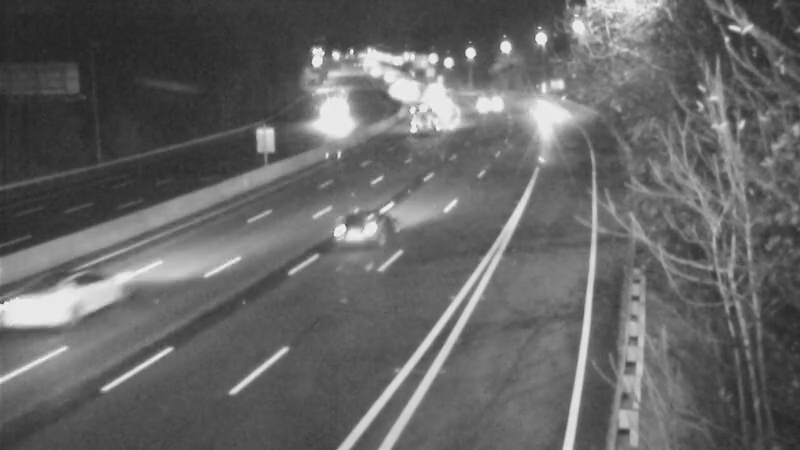vehicle: (1, 248, 111, 358), (312, 189, 392, 269), (385, 71, 435, 121), (403, 70, 453, 120), (463, 75, 513, 125), (414, 91, 464, 141), (521, 90, 571, 140), (395, 95, 445, 145), (307, 91, 357, 141)
